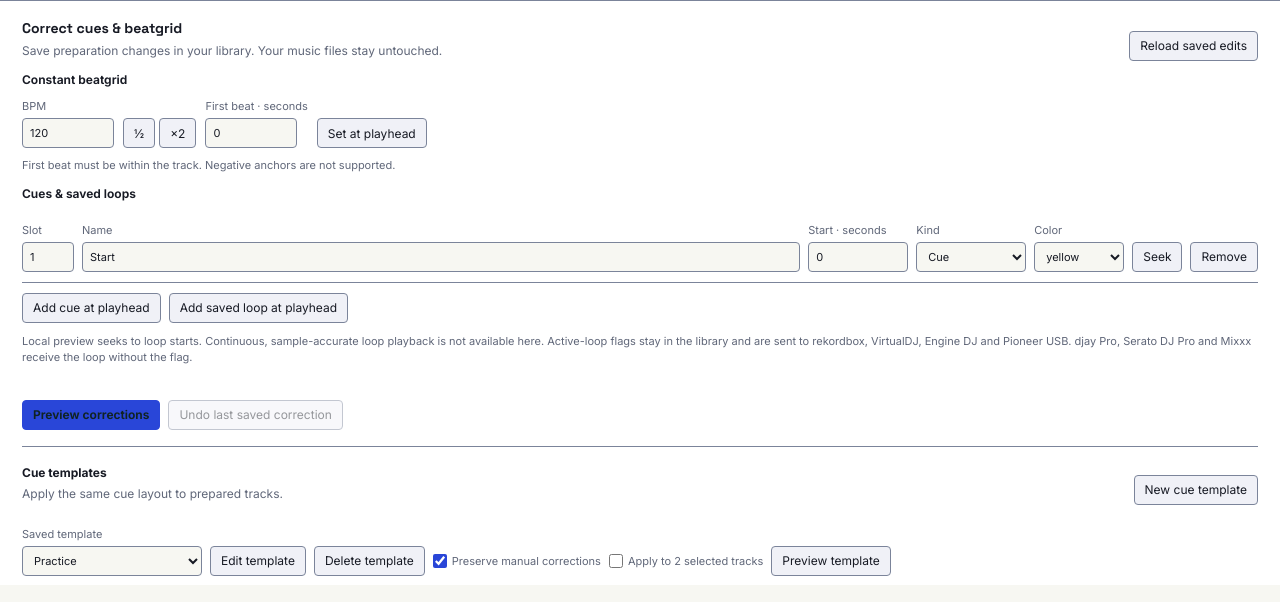
Test: previews an explicit selected batch and keeps preservation on until changed
This screenshot has width=1280, height=602.
Check: the dropdown named "Saved cue template" is shown, box [22,546,202,576]
Check: the checkbox labelled "Preserve manual corrections" is checked, box [433,554,447,568]
Click the checkbox labelled "Apply to 2 selected tracks": {"x": 616, "y": 560} [609,554,623,568]
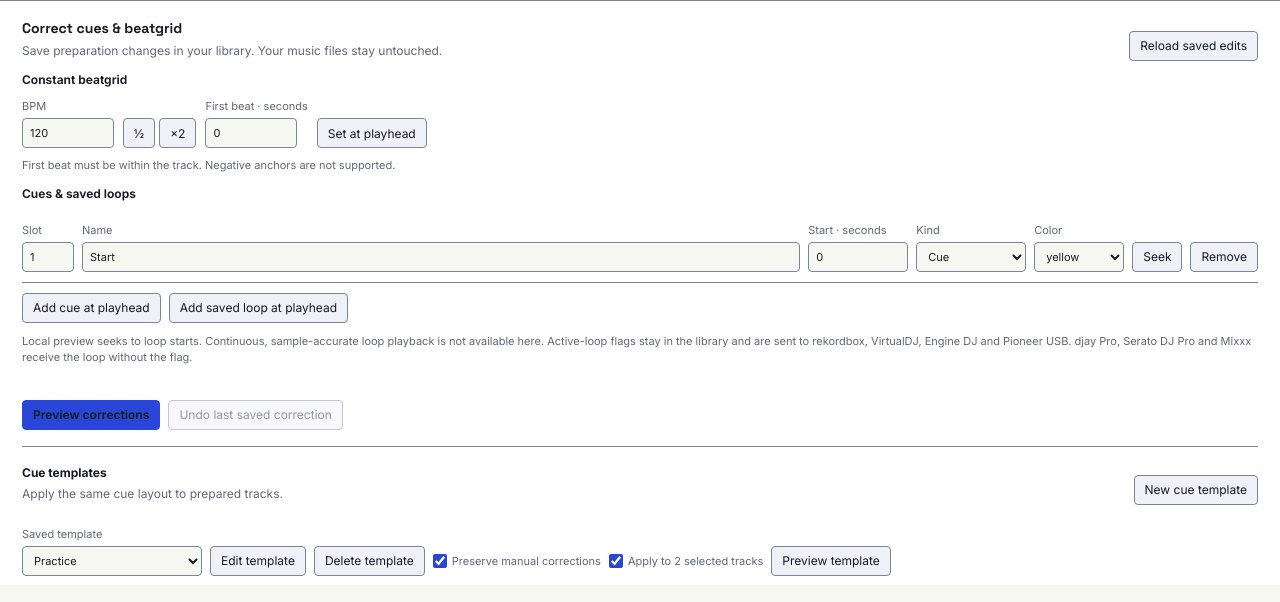
Click the button "Preview template": {"x": 831, "y": 560} [771,546,891,576]
(page scrolled)
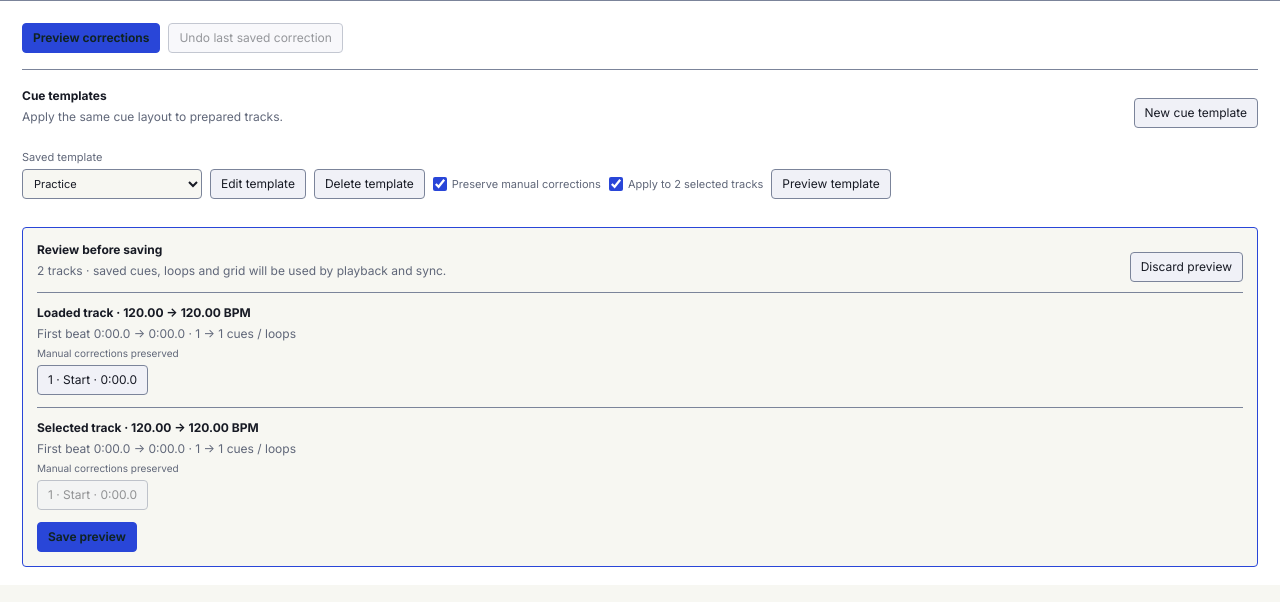
Check: the element named "Correction preview" is shown, box [22,226,1258,566]
